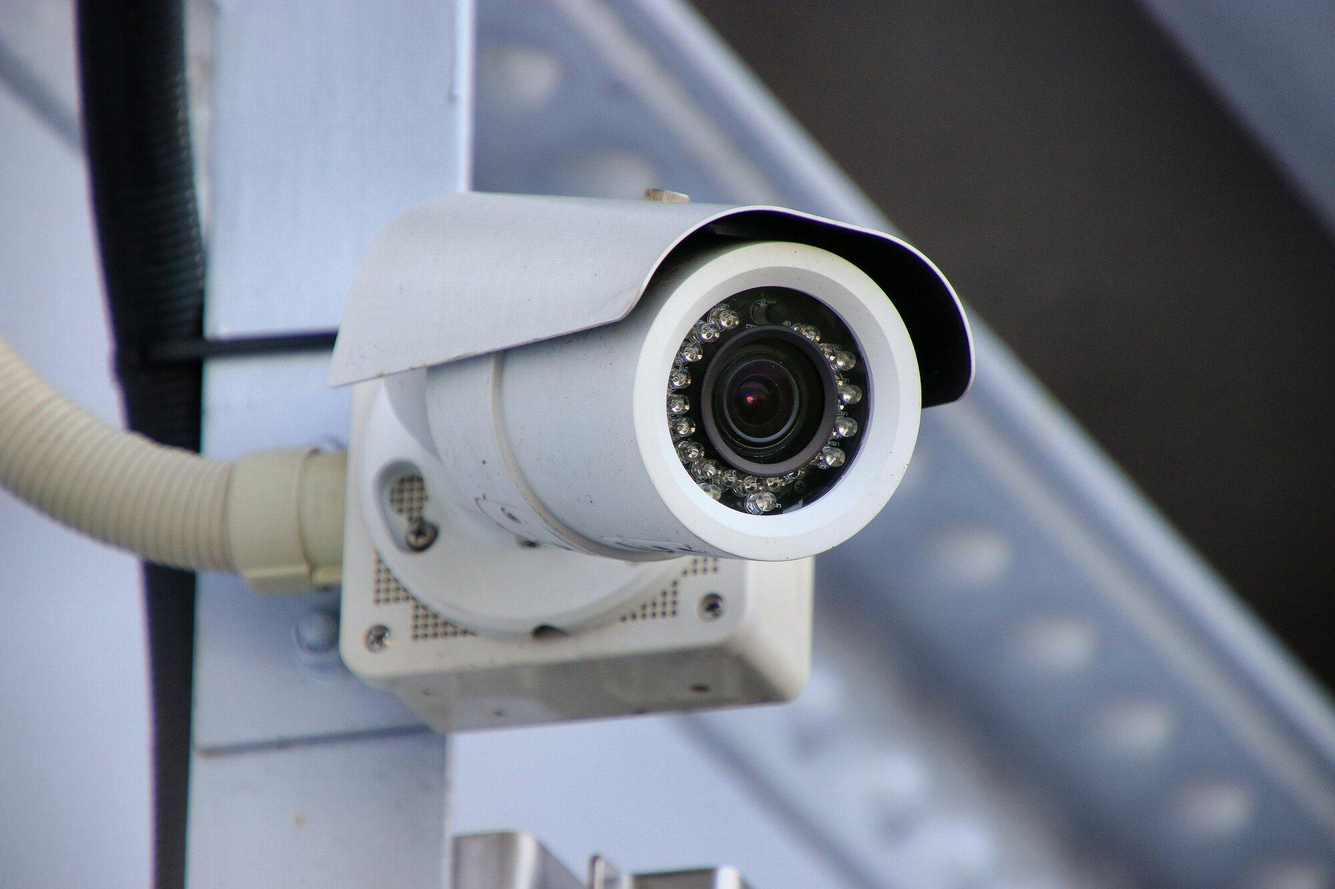tutu: (320, 173, 995, 644)
